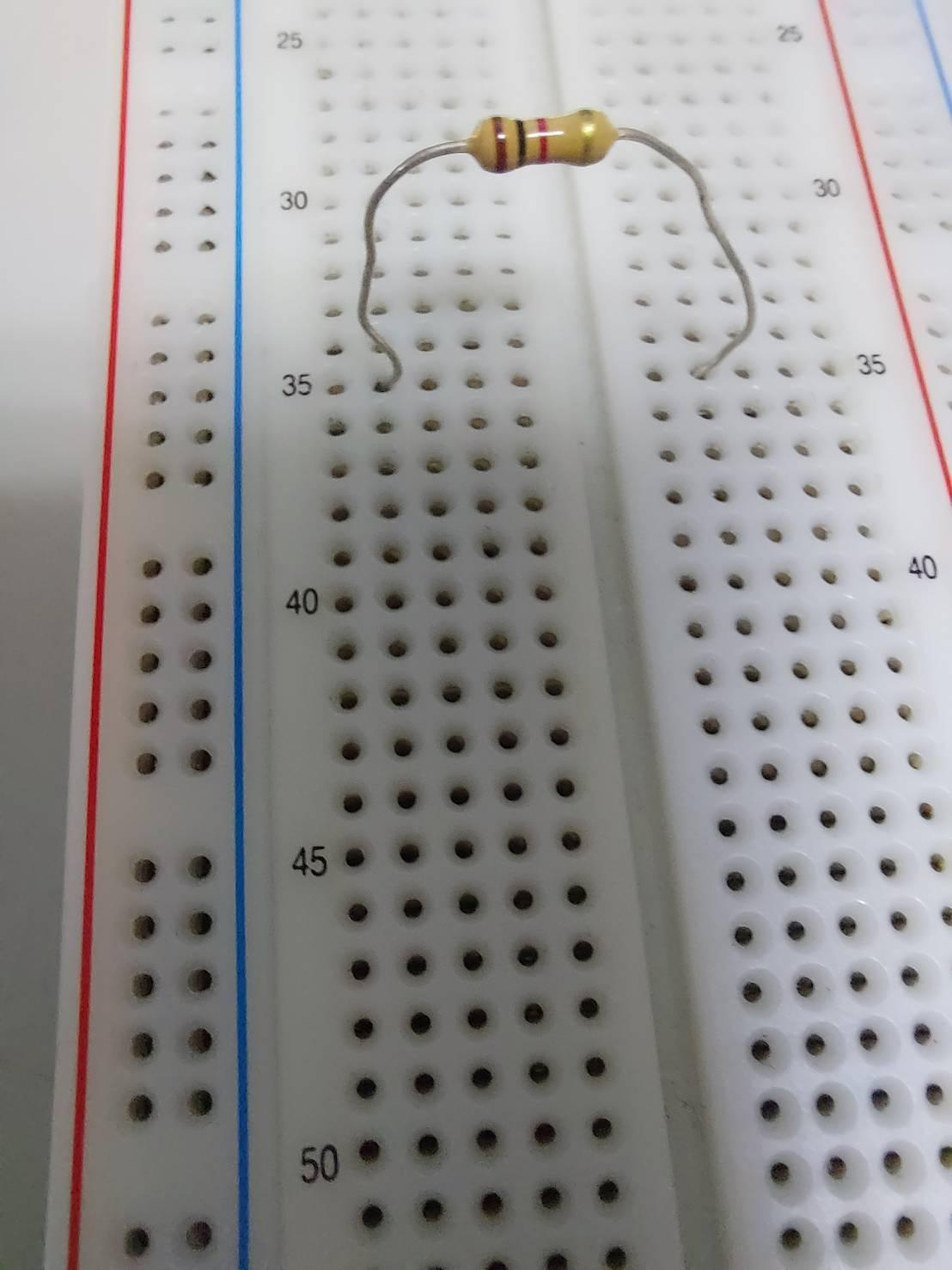resistor: (466, 103, 625, 176)
